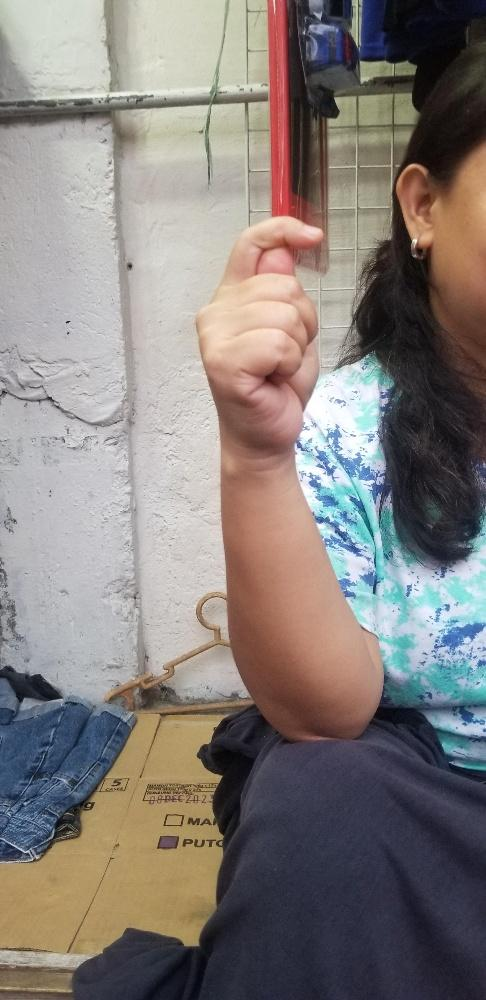t: (194, 214, 320, 449)
